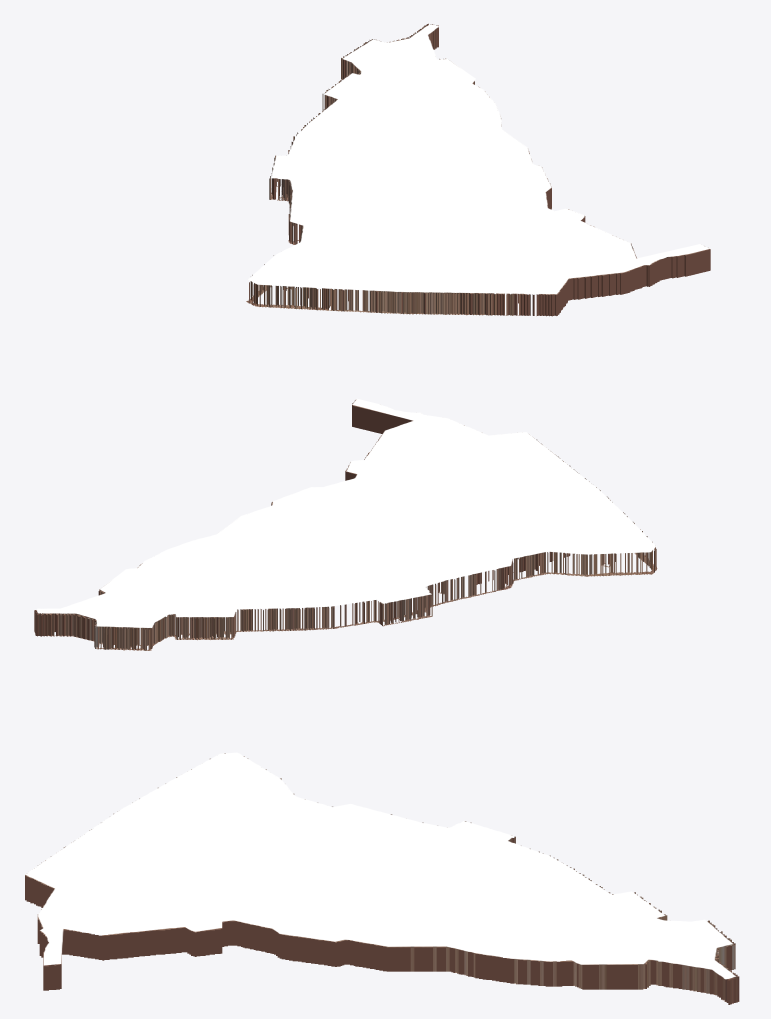
Rendered from montreal1.glb.
3 views of the same model, one above another, from view 1: azimuth 30°, elevation 25°; view 2: azimuth 150°, elevation 25°; view 3: azimuth 270°, elevation 25° (orthographic). The views are drawn at different scales.
Parts seen in each view (by area): view 1: northmontreal; view 2: northmontreal; view 3: northmontreal.
Boxes of the visible parts, x1=… form: northmontreal: x1=246, y1=23, x2=710, y2=316; northmontreal: x1=34, y1=398, x2=657, y2=650; northmontreal: x1=25, y1=752, x2=739, y2=1004.
Size of the model in its own units: 8.33 by 0.4095 by 11.
Materials: 2 (2 with a texture image).
